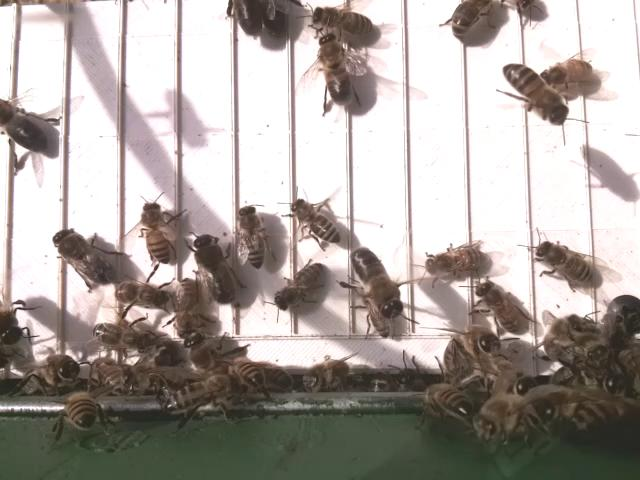Drone: (348, 243, 404, 319), (49, 225, 117, 287), (191, 231, 237, 308), (0, 99, 53, 157), (316, 30, 354, 107)
Worker: (502, 63, 569, 127), (271, 259, 328, 311), (530, 240, 594, 286), (472, 281, 526, 333), (233, 200, 270, 273), (288, 196, 343, 245), (419, 242, 489, 279), (138, 197, 175, 265), (90, 317, 152, 355), (172, 270, 201, 344), (311, 4, 378, 33), (116, 280, 175, 312)
